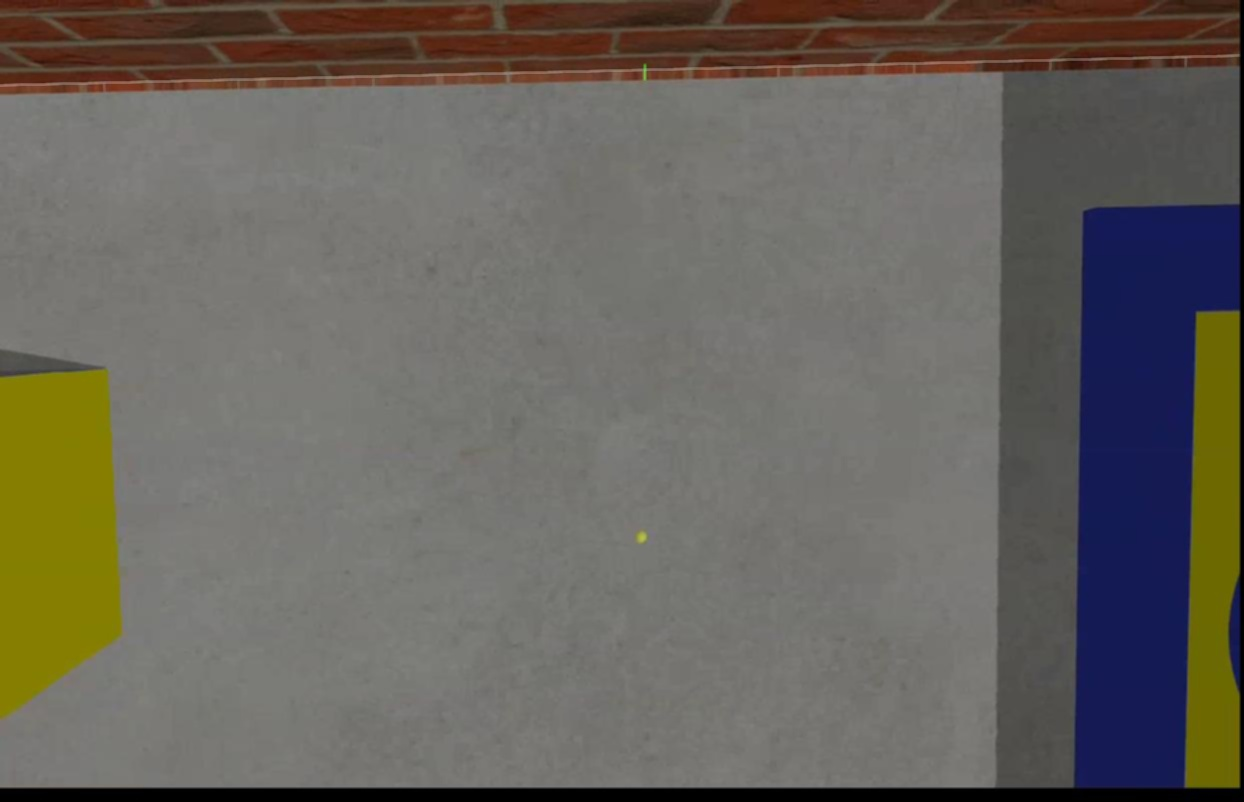large_base: (1074, 199, 1244, 789)
